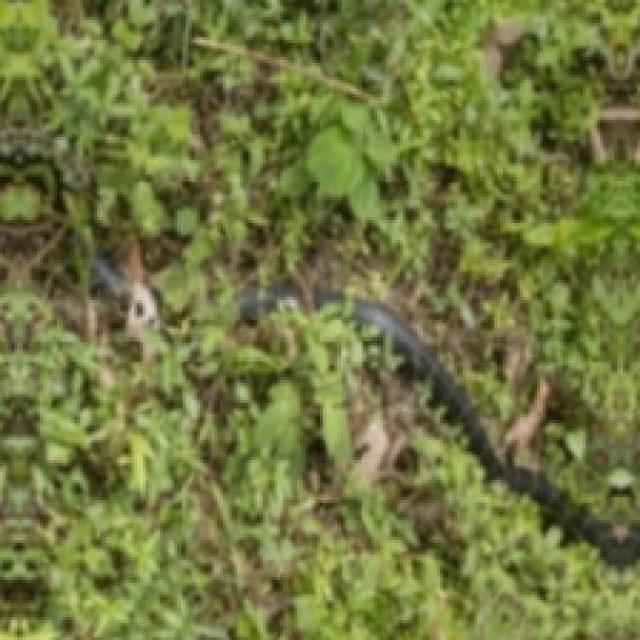king cobra: (0, 160, 637, 637), (354, 300, 637, 563), (486, 377, 637, 517)
